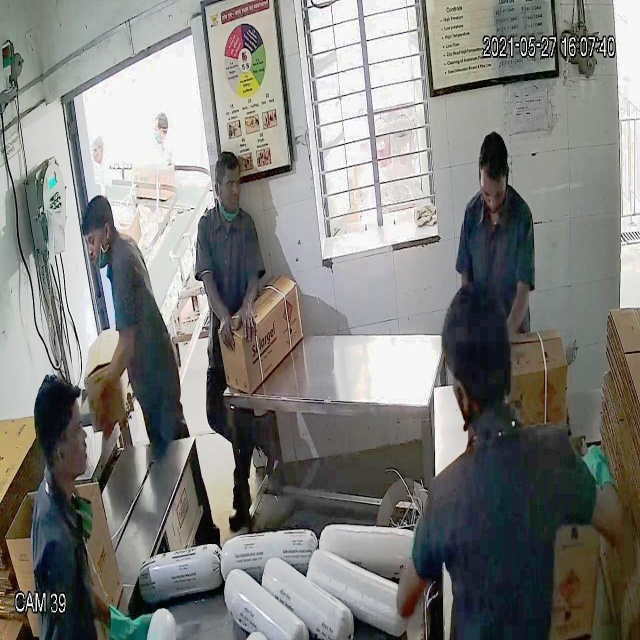Sin_gafas: (78, 221, 109, 259)
